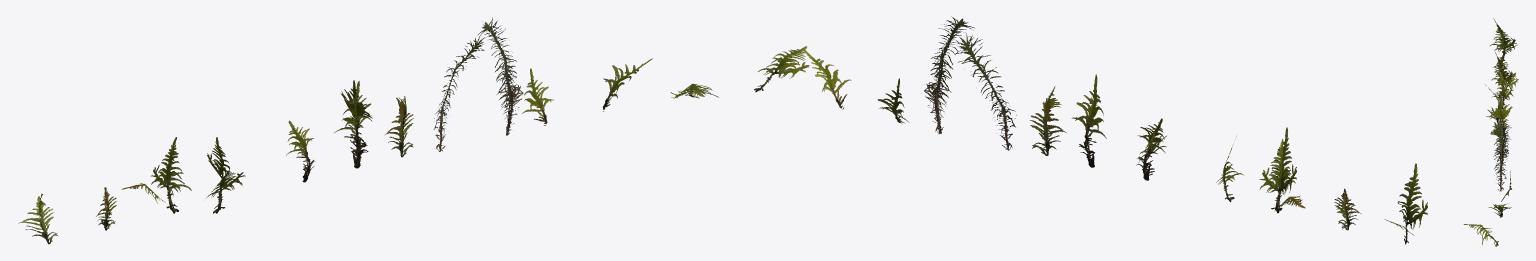
File: moss_01.glb
The picture shows the model from 3 angles, left to right: view 1: azimuth 30°, elevation 25°; view 2: azimuth 150°, elevation 25°; view 3: azimuth 270°, elevation 25°; orthographic projection. The views are drawn at different scales.
Parts seen in each view (by area): view 1: moss_01; view 2: moss_01; view 3: moss_01.
Boxes of the visible parts, bbox=[...] form: moss_01: bbox=[18, 17, 718, 244]; moss_01: bbox=[754, 16, 1427, 244]; moss_01: bbox=[1463, 18, 1518, 246].
Size of the model in its own units: 0.2153 by 0.0404 by 0.0294.
Materials: 1 (1 with a texture image).
